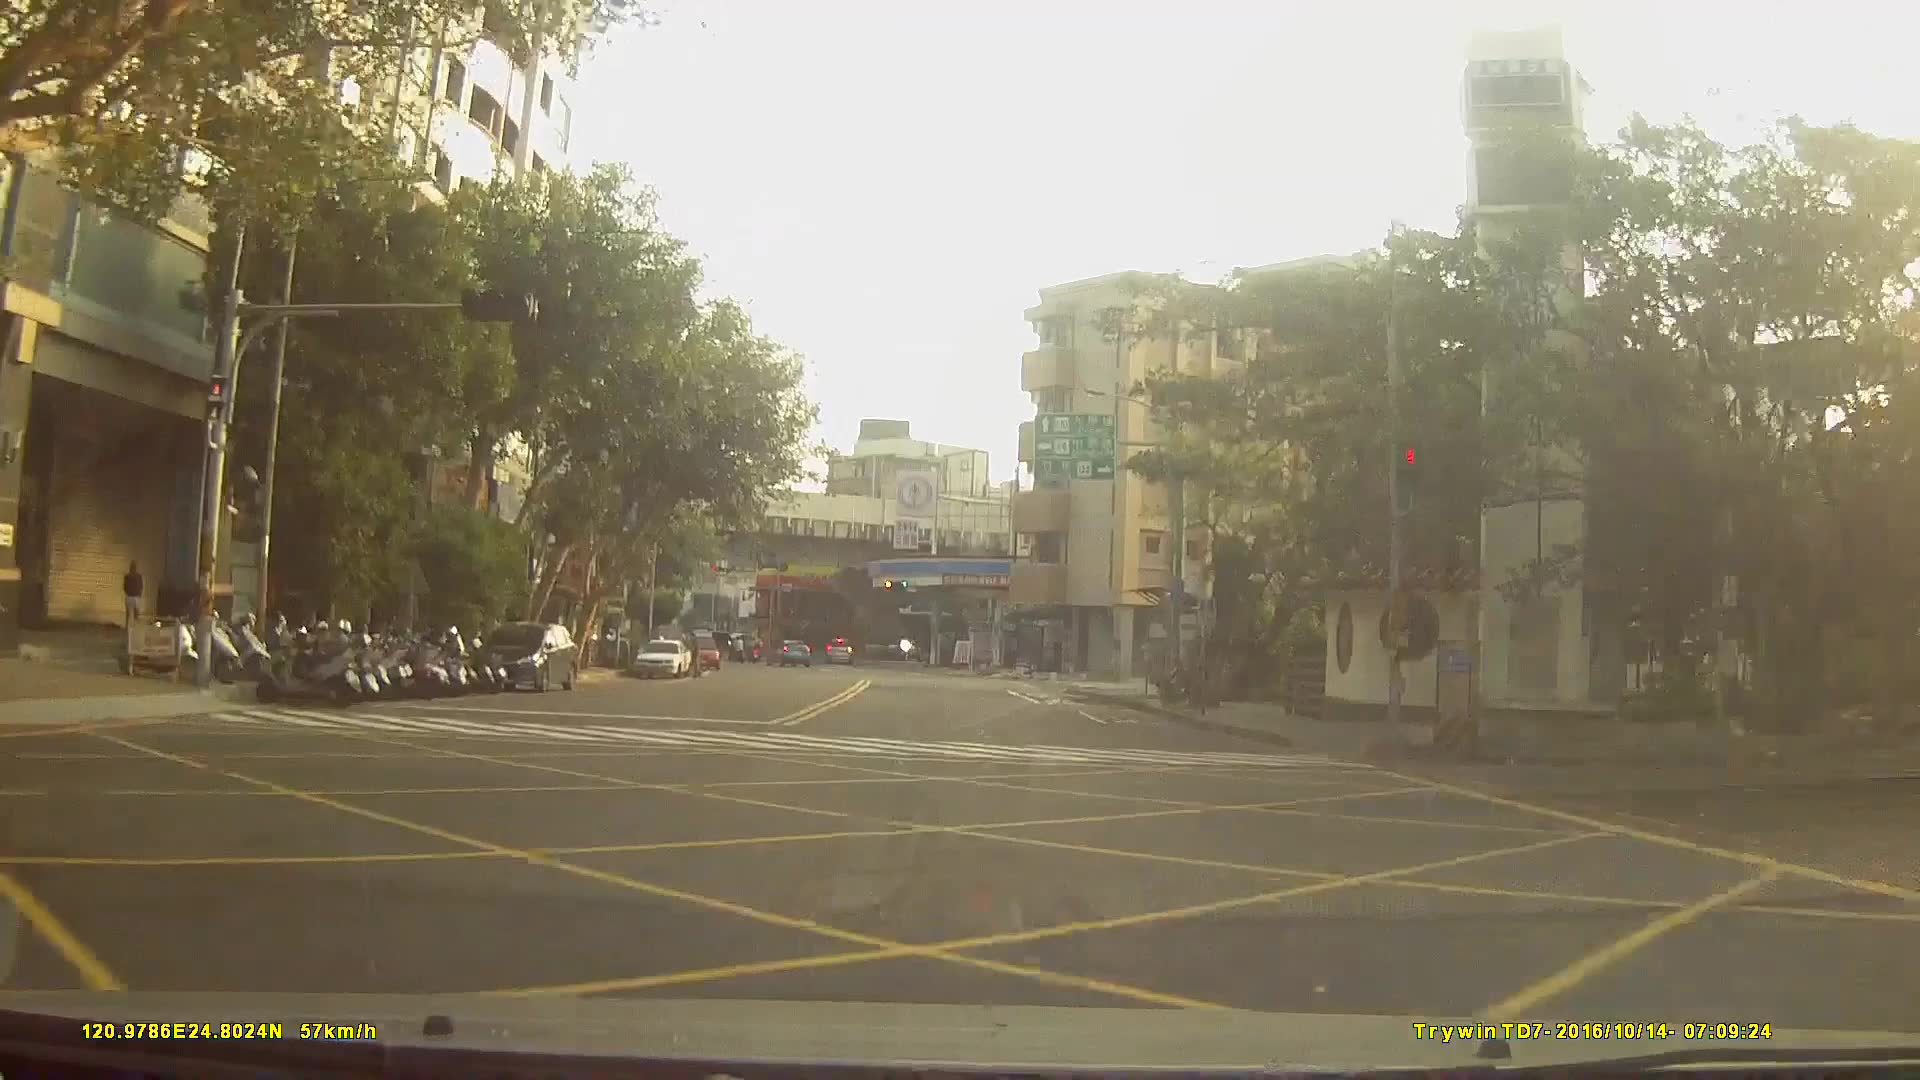pedestrian: (121, 563, 146, 638)
vehicle: (476, 618, 580, 691), (629, 638, 689, 680), (678, 634, 721, 672), (764, 637, 811, 668), (824, 635, 853, 663)
